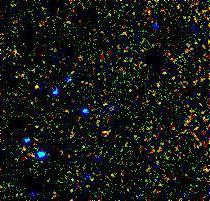star: (21, 75, 51, 105)
